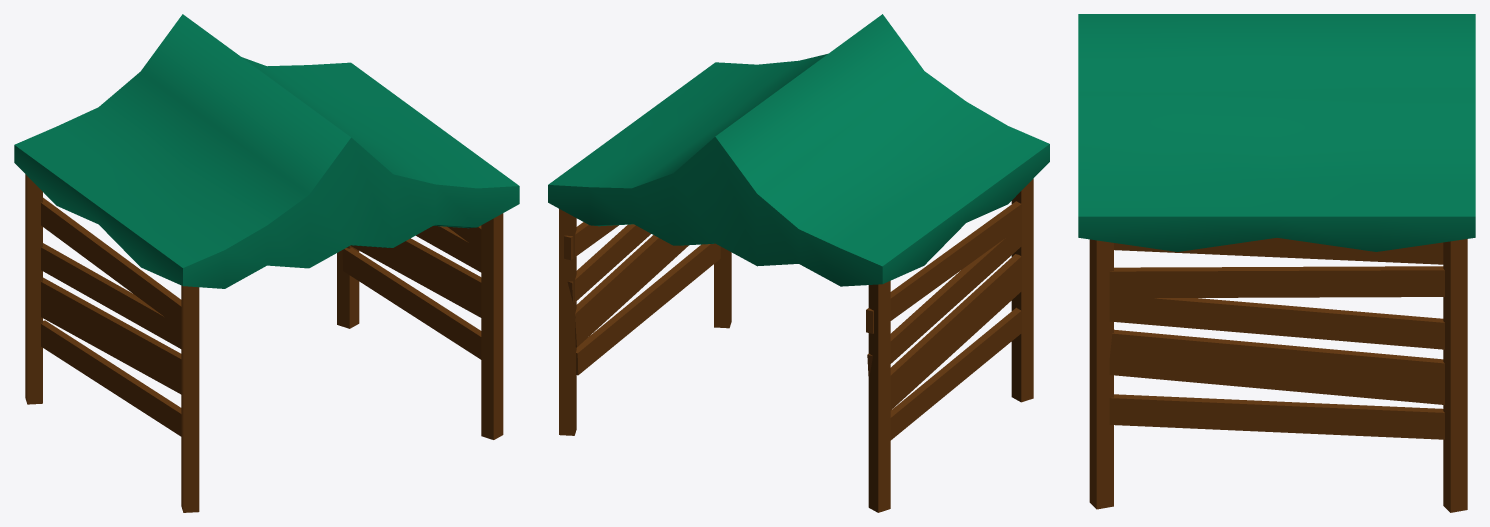
Rendered from Mesh_Stall_2.fbx.
The picture shows the model from 3 angles, left to right: view 1: azimuth 30°, elevation 25°; view 2: azimuth 150°, elevation 25°; view 3: azimuth 270°, elevation 25°; orthographic projection. The views are drawn at different scales.
Visible parts, largest first — view 1: Stall_2; view 2: Stall_2; view 3: Stall_2.
Boxes of the visible parts, x1=… form: Stall_2: x1=14, y1=14, x2=519, y2=512; Stall_2: x1=548, y1=14, x2=1049, y2=512; Stall_2: x1=1078, y1=14, x2=1475, y2=512.
Size of the model in its own units: 315 by 306 by 273.
1 material, 1 textured.
